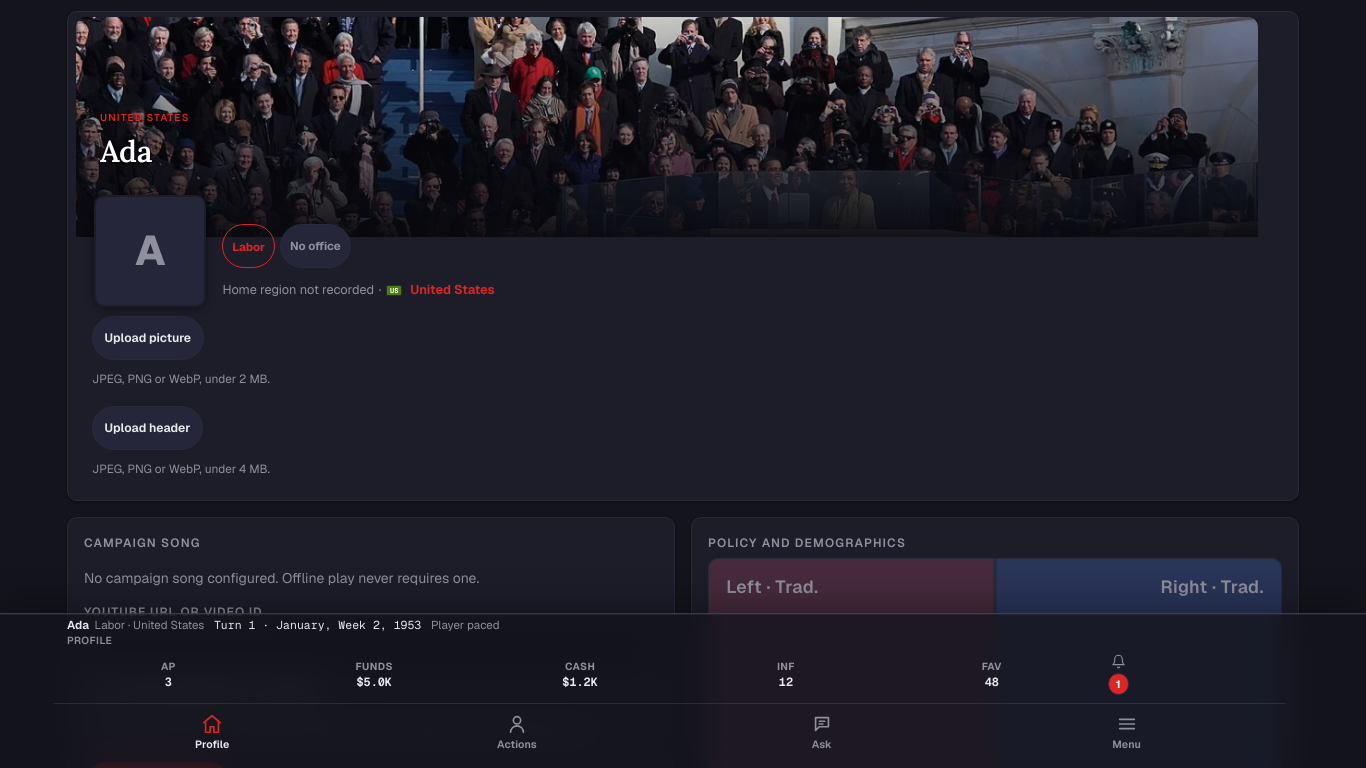
Test case: GameScreen notifications › reaches the inbox through the drawer with the unread badge
Click the button "Menu" at [1127, 734], box [974, 706, 1279, 762]
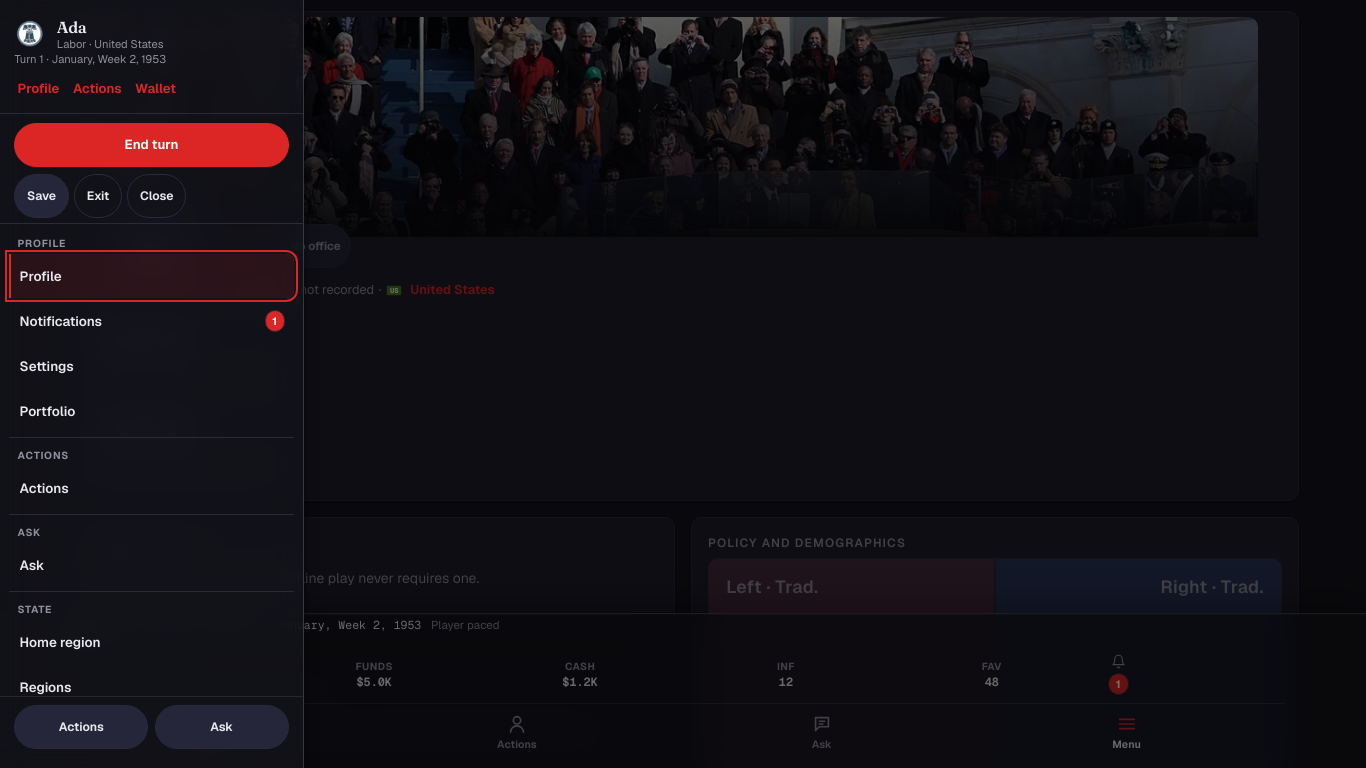
Click the button "Notifications 1" at [61, 321], box [9, 299, 294, 343]
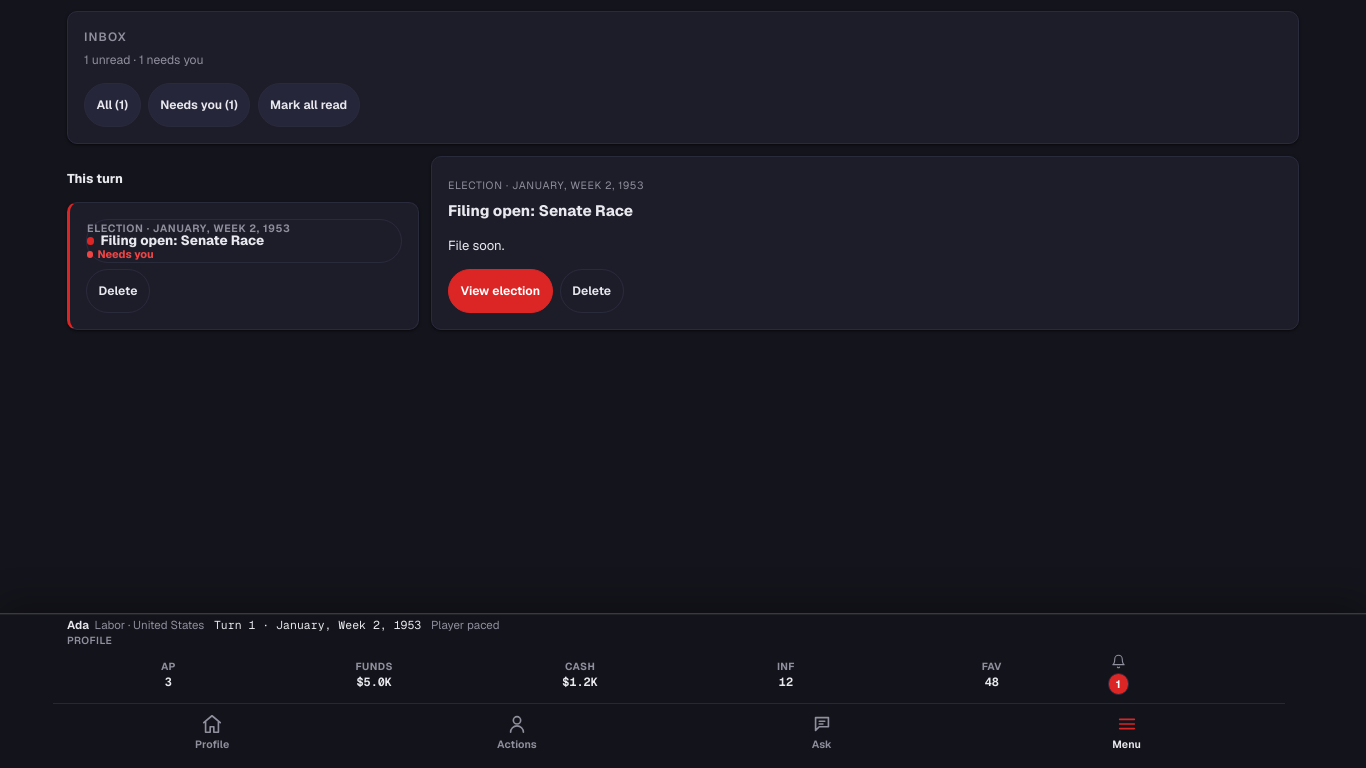
Now the text "Filing open: Senate Race" is shown, box [101, 234, 264, 248]
